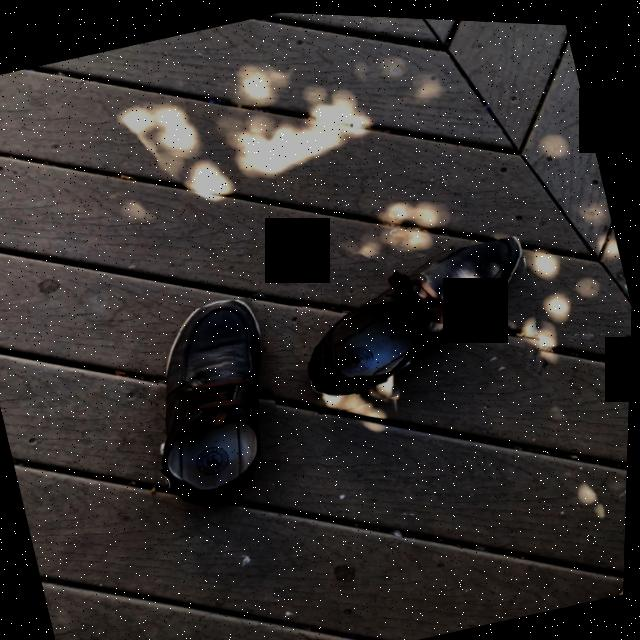shoe: (309, 231, 526, 399), (163, 297, 267, 505)
